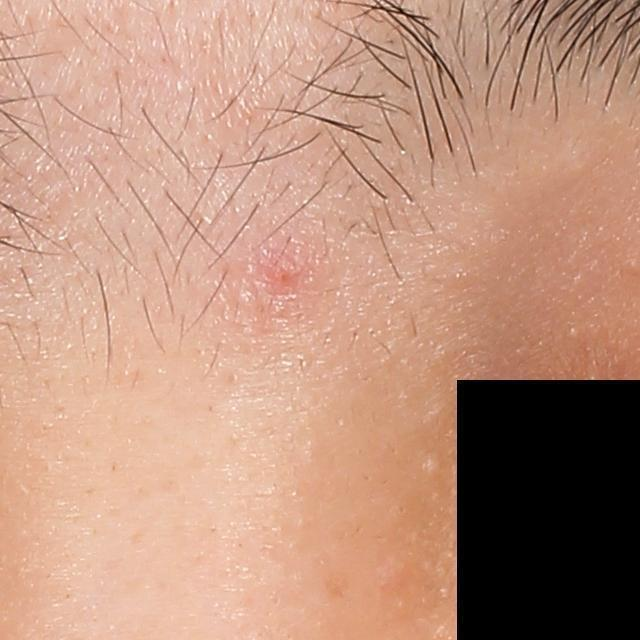comedo: (421, 455, 443, 477)
papule: (267, 256, 302, 295)
